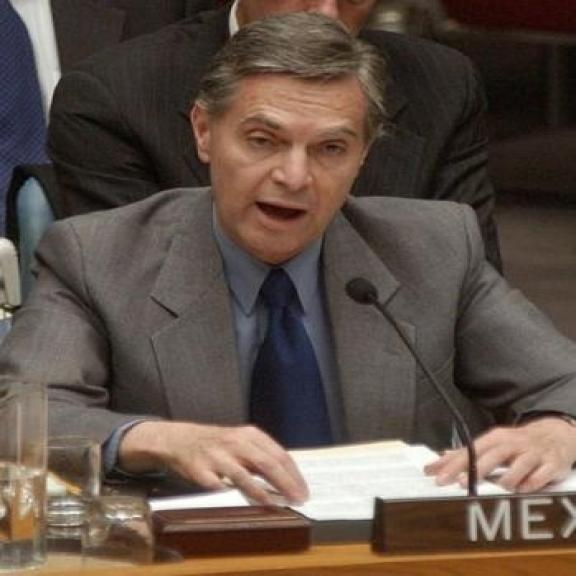face: (180, 44, 382, 259)
